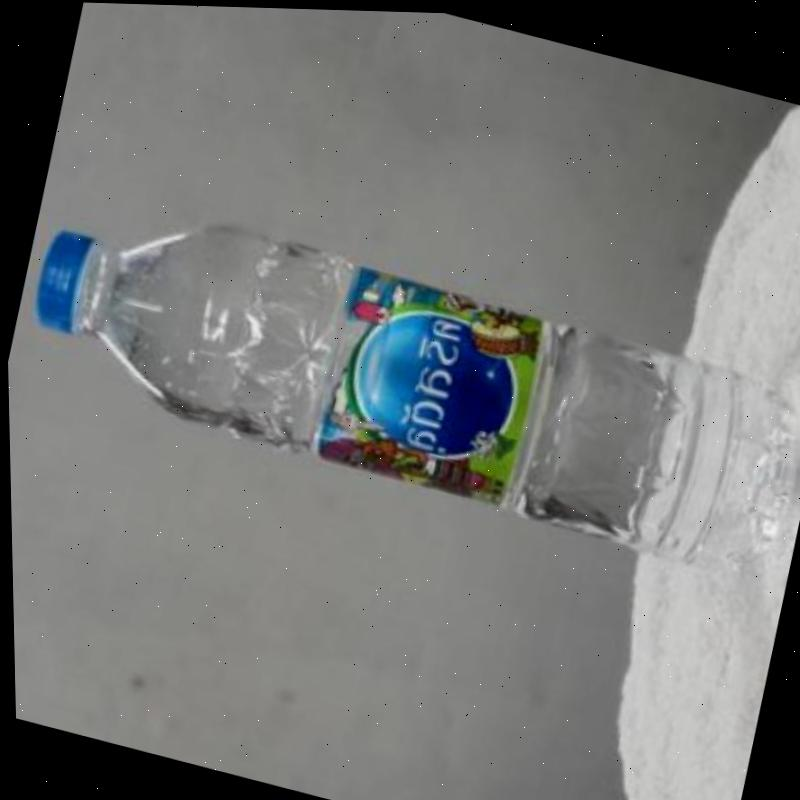botella: (9, 172, 800, 584)
